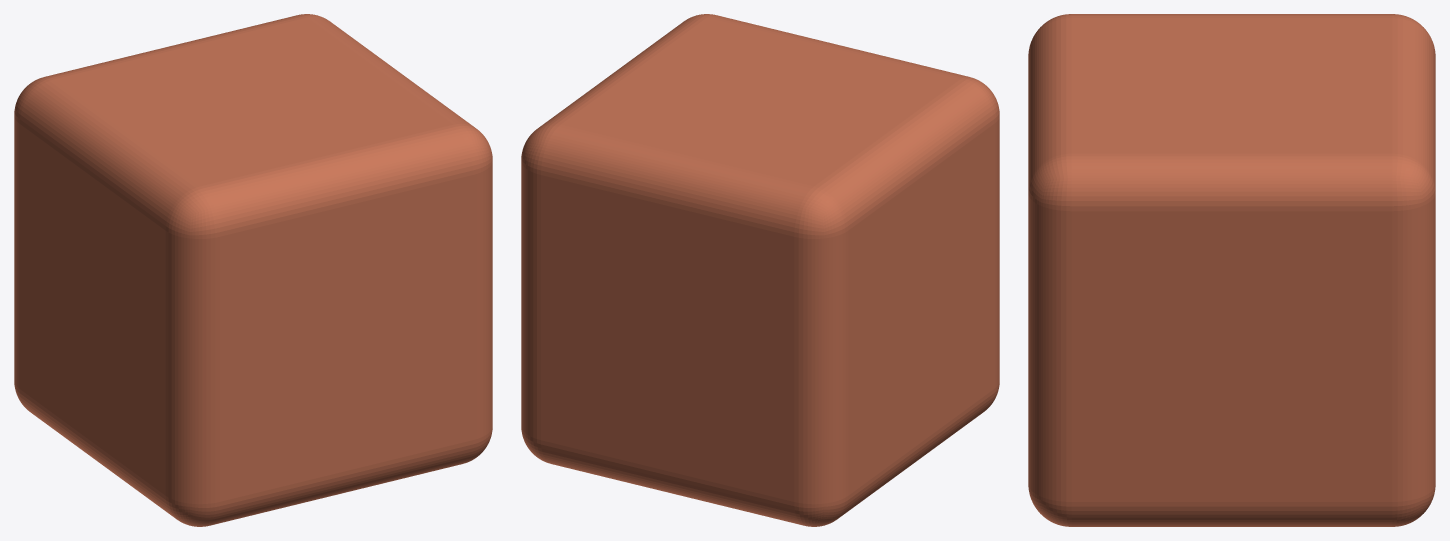
Rendered from base-voxel.fbx.
3 views of the same model, side by side, from view 1: azimuth 30°, elevation 25°; view 2: azimuth 150°, elevation 25°; view 3: azimuth 270°, elevation 25° (orthographic). The views are drawn at different scales.
Visible parts, largest first — view 1: Voxel_Base; view 2: Voxel_Base; view 3: Voxel_Base.
Part boxes in pixels (left/top/right/bottom): Voxel_Base: left=14, top=14, right=492, bottom=526; Voxel_Base: left=521, top=14, right=999, bottom=526; Voxel_Base: left=1028, top=14, right=1435, bottom=526.
Size of the model in its own units: 254 by 254 by 254.
